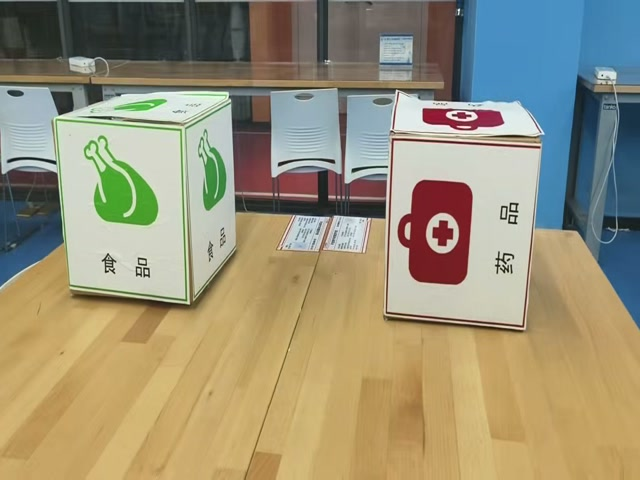Cube_food: (56, 90, 233, 128)
Cube_medicine: (390, 99, 546, 146)
